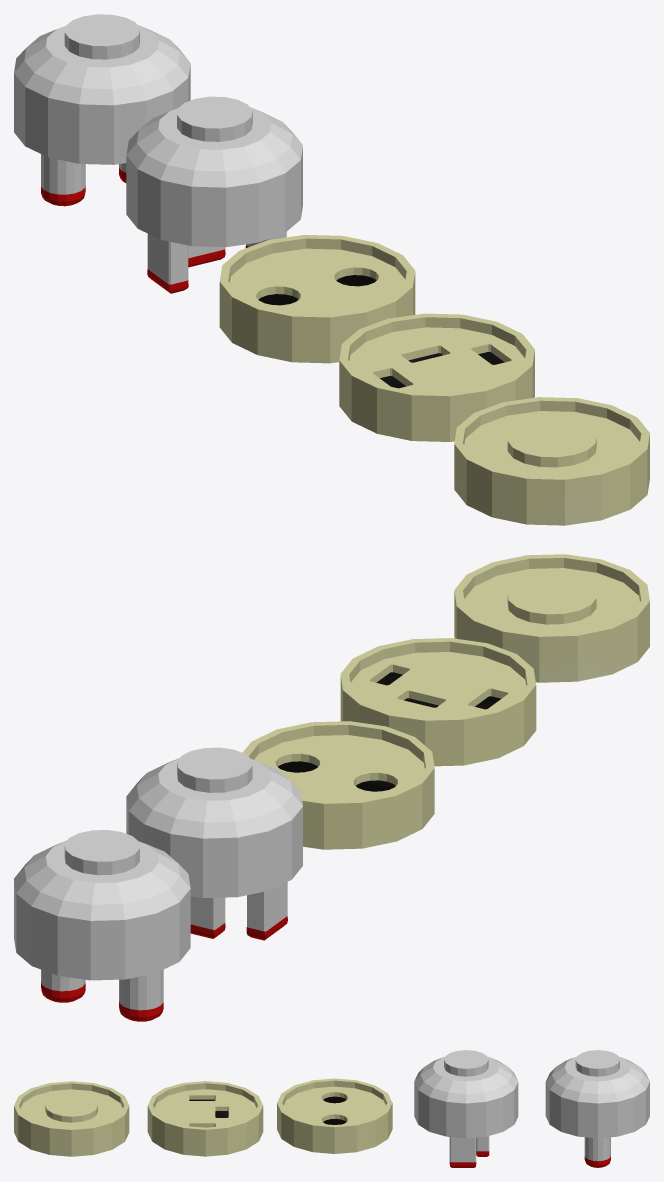
Rendered from Plugs.fbx.
3 renders of one model, top to bottom at view 1: azimuth 30°, elevation 25°; view 2: azimuth 150°, elevation 25°; view 3: azimuth 270°, elevation 25°, orthographic. The views are drawn at different scales.
Visible parts, largest first — view 1: ConnectorOne, ConnectorTwo, SocketCable, SocketOne, SocketTwo; view 2: ConnectorTwo, ConnectorOne, SocketCable, SocketOne, SocketTwo; view 3: ConnectorOne, ConnectorTwo, SocketOne, SocketTwo, SocketCable.
Boxes of the visible parts, x1,y1,x2,y2 form: ConnectorOne: (126, 96, 302, 293); ConnectorTwo: (14, 14, 190, 206); SocketCable: (454, 397, 649, 525); SocketOne: (339, 313, 534, 441); SocketTwo: (219, 235, 415, 363); ConnectorTwo: (14, 830, 190, 1021); ConnectorOne: (126, 747, 302, 940); SocketCable: (454, 554, 649, 682); SocketOne: (340, 638, 536, 766); SocketTwo: (242, 721, 434, 849); ConnectorOne: (414, 1050, 518, 1167); ConnectorTwo: (545, 1050, 649, 1167); SocketOne: (147, 1081, 263, 1156); SocketTwo: (277, 1078, 392, 1153); SocketCable: (14, 1081, 129, 1156).
Size of the model in its own units: 185 by 157 by 967.
